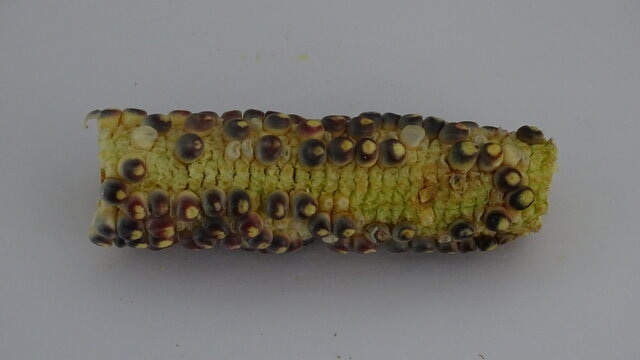ear: (80, 107, 563, 258)
